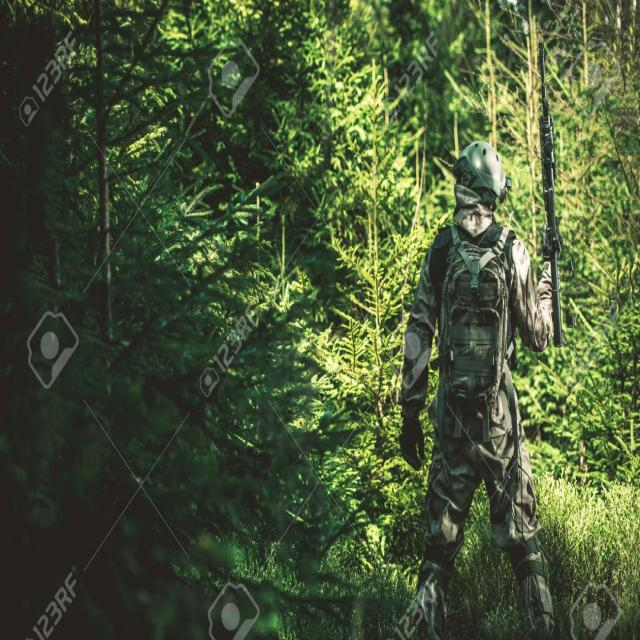Forest: (0, 0, 640, 632)
Militant: (393, 133, 595, 640)
